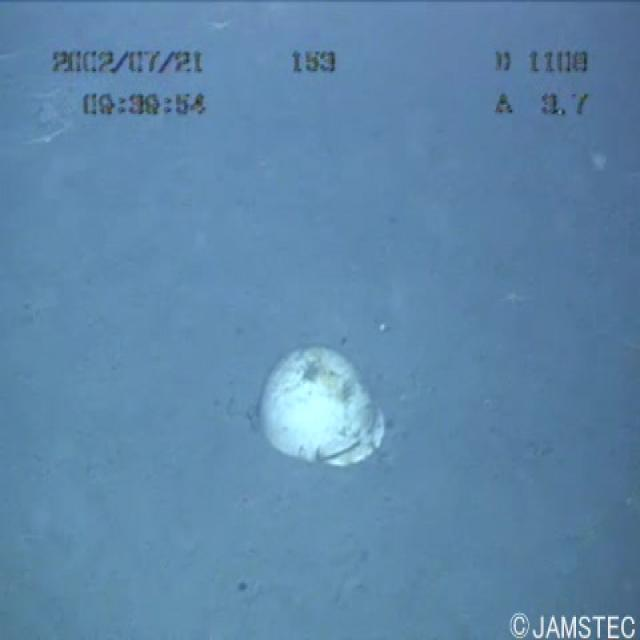plastic: (225, 334, 404, 471)
